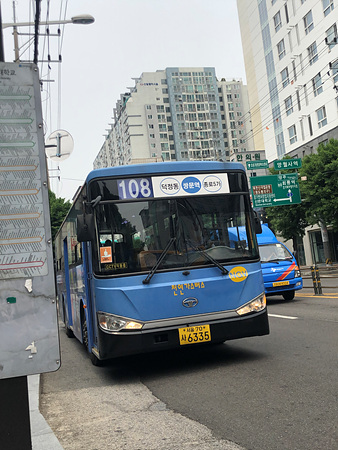bnum: (120, 177, 151, 198)
